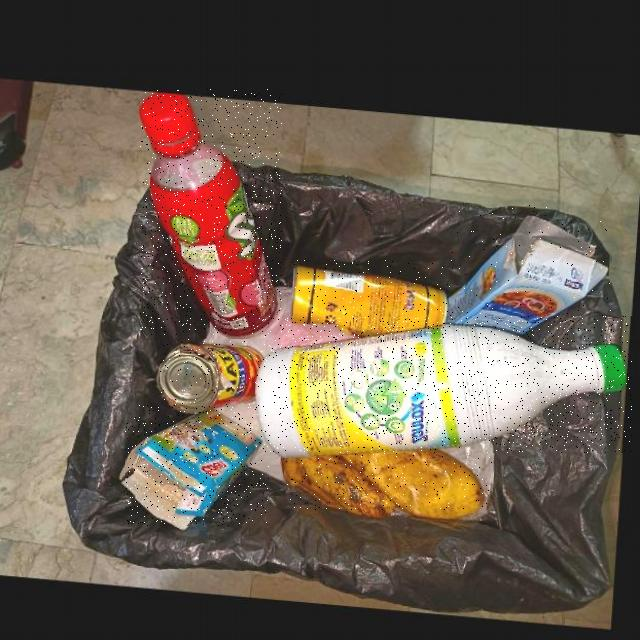biowaste: (350, 442, 492, 510), (287, 449, 403, 510)
metal: (294, 260, 452, 332), (161, 339, 269, 411)
paper: (449, 205, 611, 326), (126, 406, 269, 526)
plastic: (262, 317, 632, 453), (140, 90, 282, 335)
